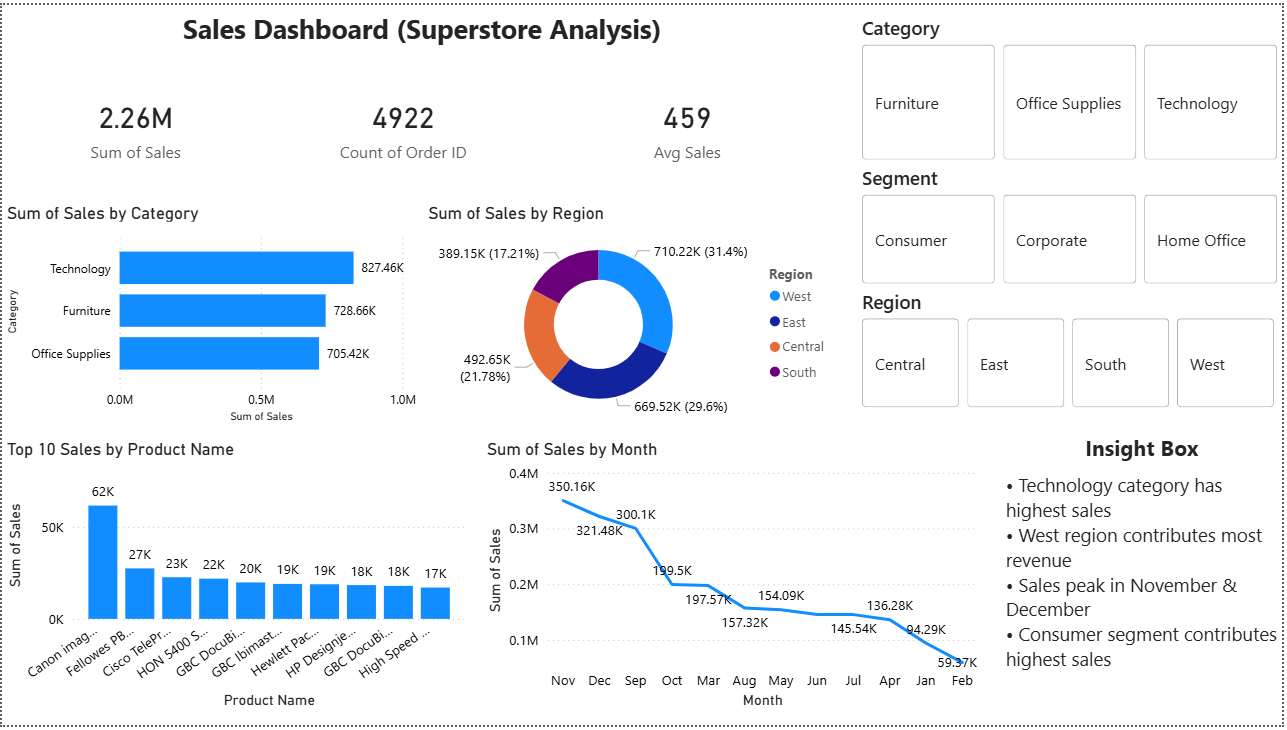

This screenshot's page, from the dashboard's own definition file:
{"tool":"powerbi","page":{"name":"Page 1","canvas":[1280,720],"ordinal":0},"visuals":[{"type":"card","fields":{"Values":["Sum(Superstore clean.Sales)"]},"box":[0,59.9,267.8,124.7],"z":0},{"type":"card","fields":{"Values":["Count(Superstore clean.Order ID)"]},"box":[267.8,59.9,267.8,124.7],"z":1000},{"type":"card","fields":{"Values":["Superstore clean.Avg Sales"]},"box":[535.6,59.9,300.8,124.7],"z":2000},{"type":"clusteredBarChart","fields":{"Category":["Superstore clean.Category"],"Y":["Sum(Superstore clean.Sales)"]},"box":[0,196.9,420.7,225],"z":3000},{"type":"donutChart","fields":{"Y":["Sum(Superstore clean.Sales)"],"Category":["Superstore clean.Region"]},"box":[420.7,196.9,415.8,225],"z":3001},{"type":"lineChart","fields":{"Category":["Superstore clean.Month"],"Y":["Sum(Superstore clean.Sales)"]},"box":[480.6,434.1,500.1,275.1],"z":3002},{"type":"columnChart","title":"Top 10 Sales by Product Name","fields":{"Category":["Superstore clean.Product Name"],"Y":["Sum(Superstore clean.Sales)"]},"box":[0,434.1,468.3,275.1],"z":3003},{"type":"advancedSlicerVisual","fields":{"Values":["Superstore clean.Category"]},"box":[854.8,9.8,425.5,150.4],"z":3004},{"type":"advancedSlicerVisual","fields":{"Values":["Superstore clean.Segment"]},"box":[854.8,160.2,425.5,124.7],"z":3005},{"type":"advancedSlicerVisual","fields":{"Values":["Superstore clean.Region"]},"box":[854.8,283.7,425.5,124.7],"z":3006},{"type":"textbox","box":[113.7,0,612.6,59.9],"z":3007},{"type":"textbox","box":[999.1,462.2,281.3,234.8],"z":3008},{"type":"textbox","box":[1023.5,421.9,232.3,47.7],"z":3009}]}

Visuals, with their boxes in screenshot pixels (x1, y1, x2, y2), scaled from the page's 1280x720 canvas onto the 1287x730 screenshot:
card - Sum(Superstore clean.Sales): 0, 61, 269, 187
card - Count(Superstore clean.Order ID): 269, 61, 539, 187
card - Superstore clean.Avg Sales: 539, 61, 841, 187
clusteredBarChart - Superstore clean.Category x Sum(Superstore clean.Sales): 0, 200, 423, 428
donutChart - Sum(Superstore clean.Sales) x Superstore clean.Region: 423, 200, 841, 428
lineChart - Superstore clean.Month x Sum(Superstore clean.Sales): 483, 440, 986, 719
"Top 10 Sales by Product Name" columnChart: 0, 440, 471, 719
advancedSlicerVisual - Superstore clean.Category: 859, 10, 1286, 162
advancedSlicerVisual - Superstore clean.Segment: 859, 162, 1286, 289
advancedSlicerVisual - Superstore clean.Region: 859, 288, 1286, 414
textbox: 114, 0, 730, 61
textbox: 1005, 469, 1286, 707
textbox: 1029, 428, 1263, 476
